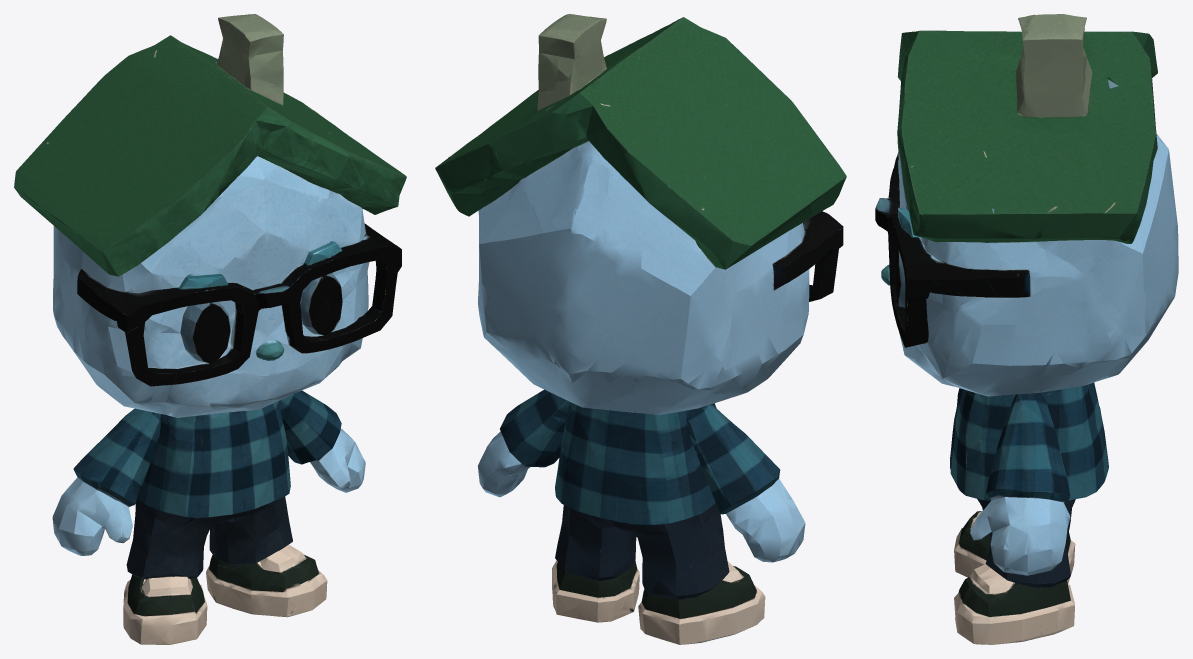
File: househead-idle.glb
3 views of the same model, side by side, from view 1: azimuth 30°, elevation 25°; view 2: azimuth 150°, elevation 25°; view 3: azimuth 270°, elevation 25° (orthographic). The views are drawn at different scales.
Parts seen in each view (by area): view 1: mesh_node; view 2: mesh_node; view 3: mesh_node.
Boxes of the visible parts, x1,y1,x2,y2 form: mesh_node: (14, 14, 406, 644); mesh_node: (435, 14, 846, 644); mesh_node: (875, 14, 1178, 644).
Size of the model in its own units: 1.07 by 1.9 by 0.8662.
Materials: 1 (1 with a texture image).
